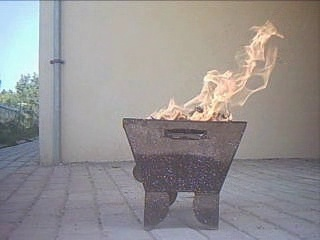fire: (150, 15, 289, 125)
